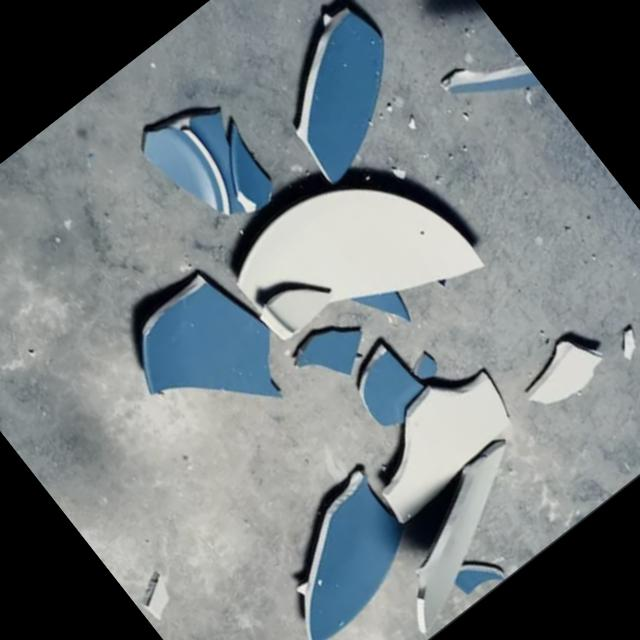PecahanKaca: (213, 128, 490, 398), (243, 0, 438, 188), (130, 80, 290, 249)
